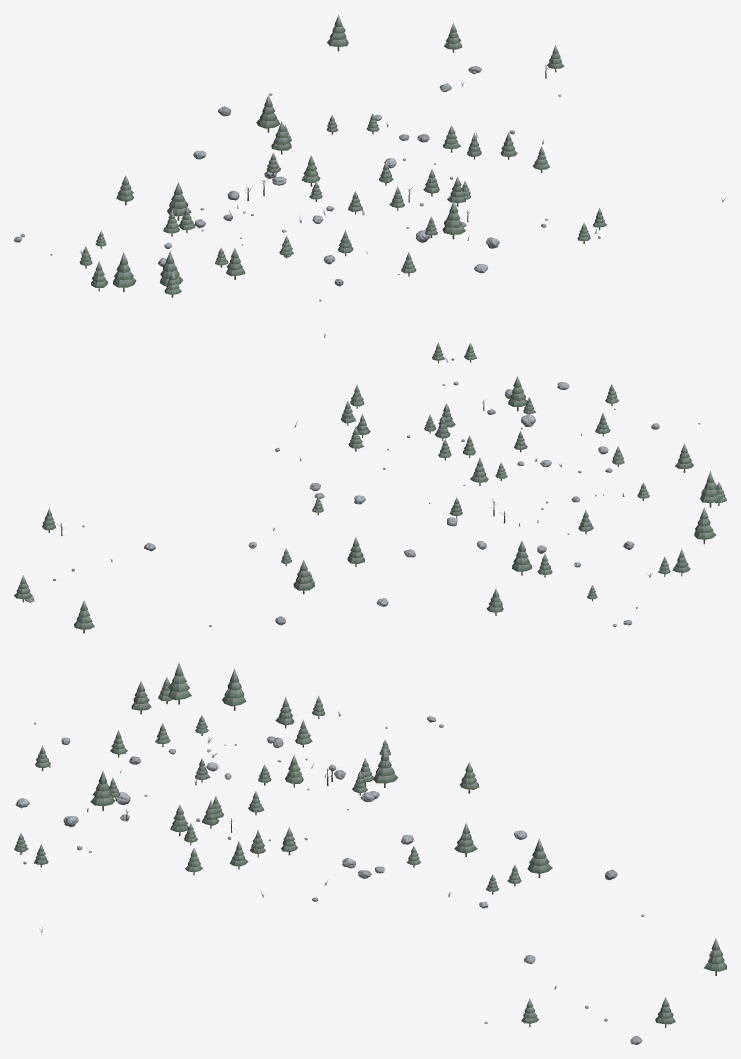
File: frost_land_scatter_c19_11.glb
The picture shows the model from 3 angles, top to bottom: view 1: azimuth 30°, elevation 25°; view 2: azimuth 150°, elevation 25°; view 3: azimuth 270°, elevation 25°; orthographic projection. The views are drawn at different scales.
Parts seen in each view (by area): view 1: frost_land_scatter_c19_11; view 2: frost_land_scatter_c19_11; view 3: frost_land_scatter_c19_11.
Part boxes in pixels (x1,y1,x2,y2): frost_land_scatter_c19_11: (14,15,726,301); frost_land_scatter_c19_11: (14,332,726,633); frost_land_scatter_c19_11: (14,662,726,1044).
Bounding box in the file's own units: 258 × 52.69 × 257.
